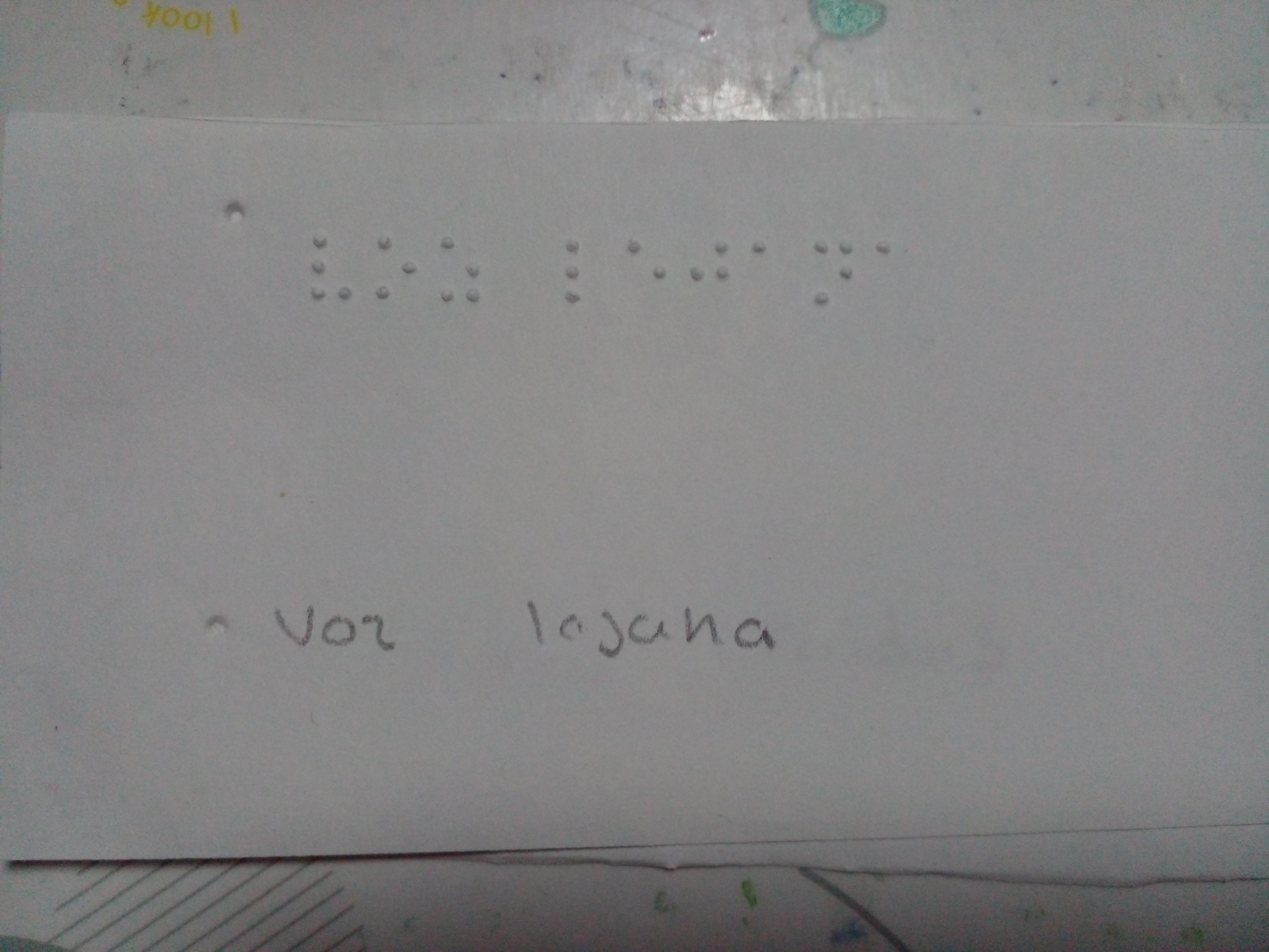a: (867, 226, 903, 279), (740, 232, 779, 279)
e: (627, 228, 671, 298)
j: (683, 231, 739, 301)
l: (561, 231, 592, 316)
n: (798, 231, 860, 313)
o: (359, 231, 418, 310)
z: (305, 218, 358, 322), (431, 236, 494, 315)
